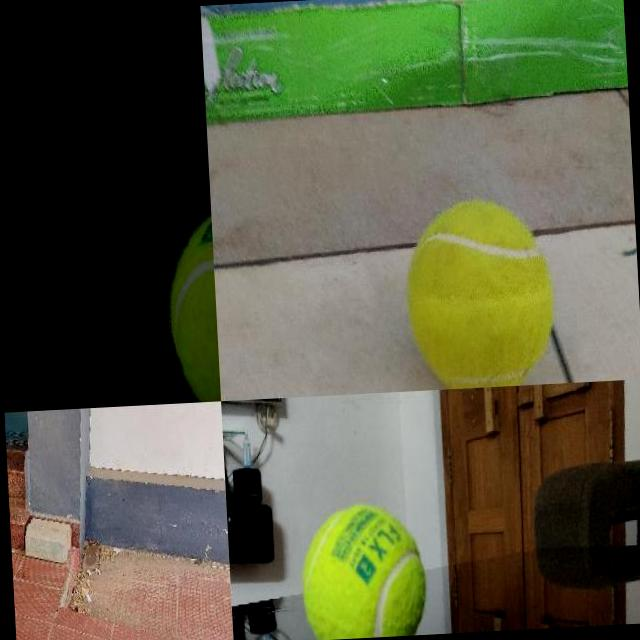tennis-ball: (401, 195, 559, 390), (296, 500, 429, 640), (162, 196, 220, 402)
